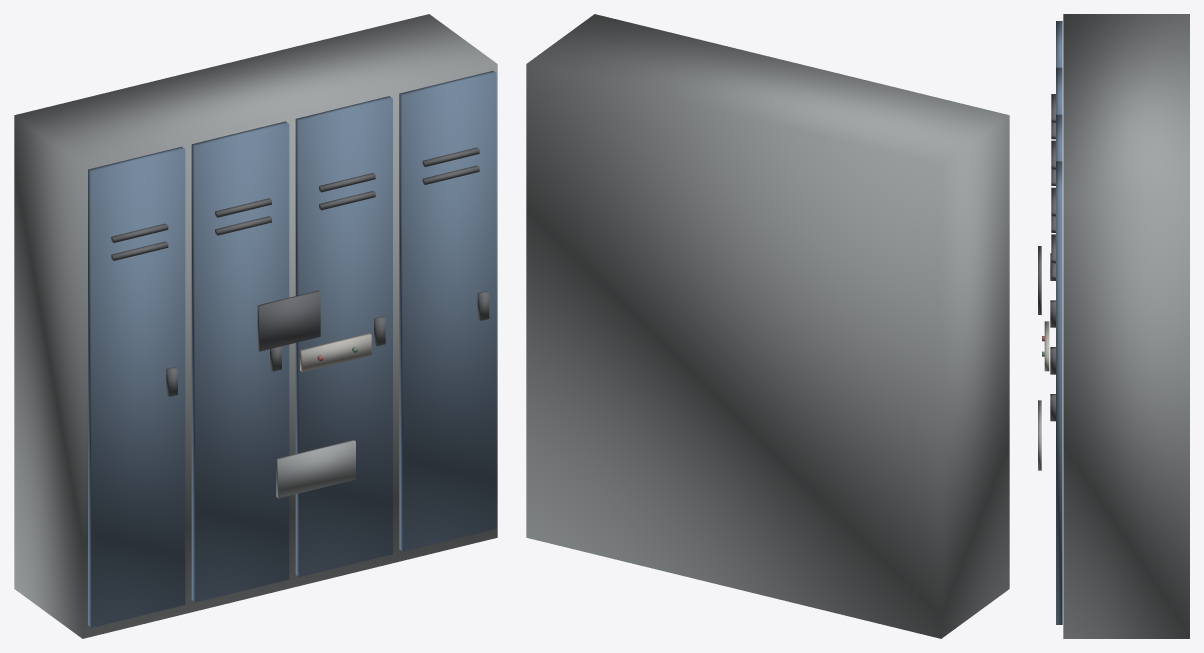
File: locker_bank__weathered.glb
3 renders of one model, left to right at view 1: azimuth 30°, elevation 25°; view 2: azimuth 150°, elevation 25°; view 3: azimuth 270°, elevation 25°, orthographic. The views are drawn at different scales.
Parts seen in each view (by area): view 1: world; view 2: world; view 3: world.
Part boxes in pixels (box(x1,y1,x2,y2)): world: box(14, 14, 497, 638); world: box(526, 14, 1009, 638); world: box(1038, 14, 1189, 638).
Size of the model in its own units: 1.68 by 1.83 by 0.576.
